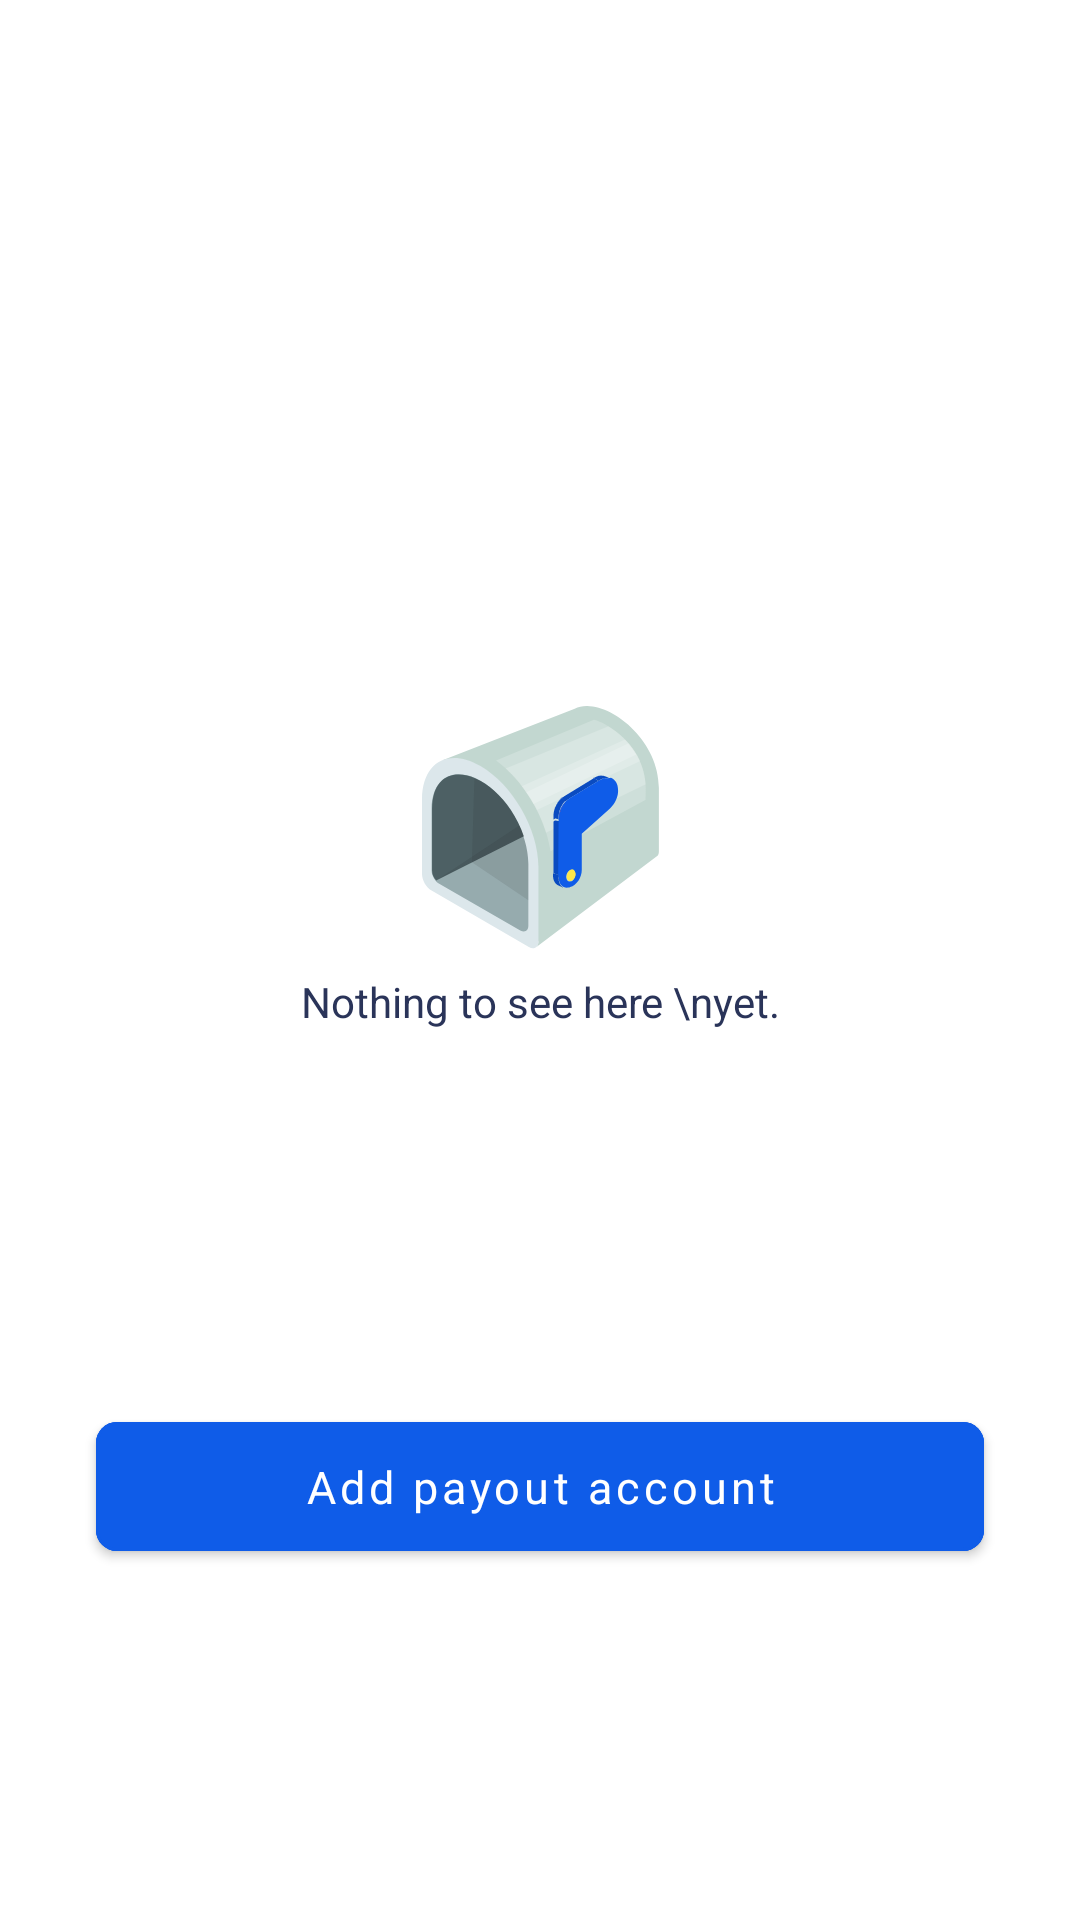

Icon bounding boxes for this 1080px x 1920px phone screenshot, format (x1, y1, x2, y2):
empty mail: (422, 706, 659, 948)
